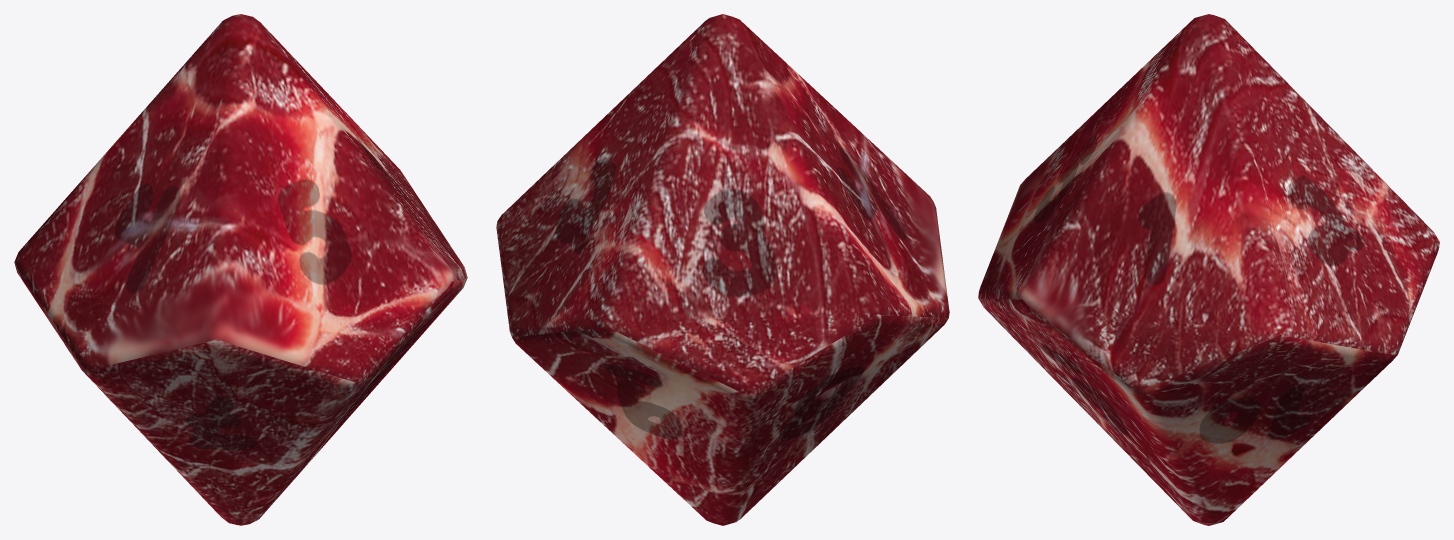
Rendered from Quinns_D10.glb.
3 views of the same model, side by side, from view 1: azimuth 30°, elevation 25°; view 2: azimuth 150°, elevation 25°; view 3: azimuth 270°, elevation 25° (orthographic).
Parts seen in each view (by area): view 1: d10_geo; view 2: d10_geo; view 3: d10_geo.
Boxes of the visible parts, x1=… form: d10_geo: x1=14, y1=14, x2=467, y2=525; d10_geo: x1=496, y1=14, x2=949, y2=525; d10_geo: x1=978, y1=14, x2=1439, y2=525.
Size of the model in its own units: 1.66 by 2.13 by 1.74.
Materials: 1 (1 with a texture image).
